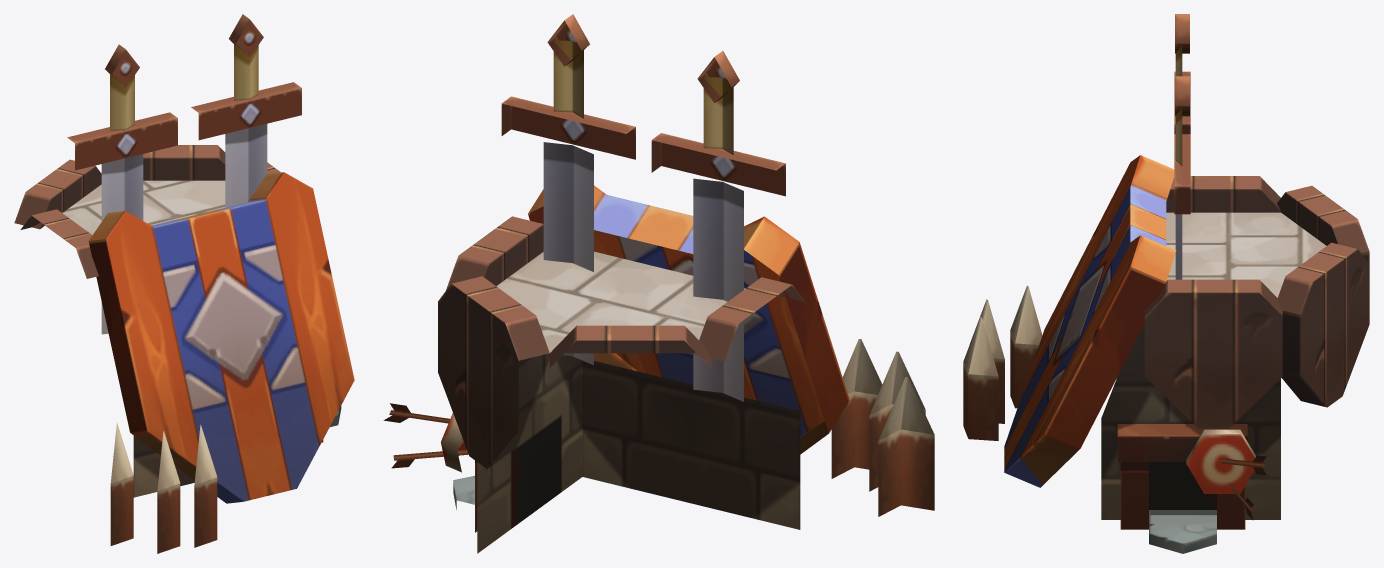
Rendered from B_Barracks01.fbx.
The picture shows the model from 3 angles, left to right: view 1: azimuth 30°, elevation 25°; view 2: azimuth 150°, elevation 25°; view 3: azimuth 270°, elevation 25°; orthographic projection. The views are drawn at different scales.
Visible parts, largest first — view 1: B_Barracks01_01, B_Barracks01_03, B_Barracks01_02; view 2: B_Barracks01_01, B_Barracks01_02, B_Barracks01_03; view 3: B_Barracks01_01, B_Barracks01_03, B_Barracks01_02.
Boxes of the visible parts, bbox=[...] form: B_Barracks01_01: bbox=[14, 145, 354, 553]; B_Barracks01_03: bbox=[191, 14, 301, 207]; B_Barracks01_02: bbox=[67, 44, 177, 334]; B_Barracks01_01: bbox=[383, 185, 934, 553]; B_Barracks01_02: bbox=[651, 51, 785, 401]; B_Barracks01_03: bbox=[501, 14, 635, 365]; B_Barracks01_01: bbox=[963, 155, 1369, 553]; B_Barracks01_03: bbox=[1174, 76, 1190, 279]; B_Barracks01_02: bbox=[1174, 14, 1190, 134].
Bounding box in the file's own units: 4.4 × 5.24 × 4.49.
Materials: 1 (1 with a texture image).
